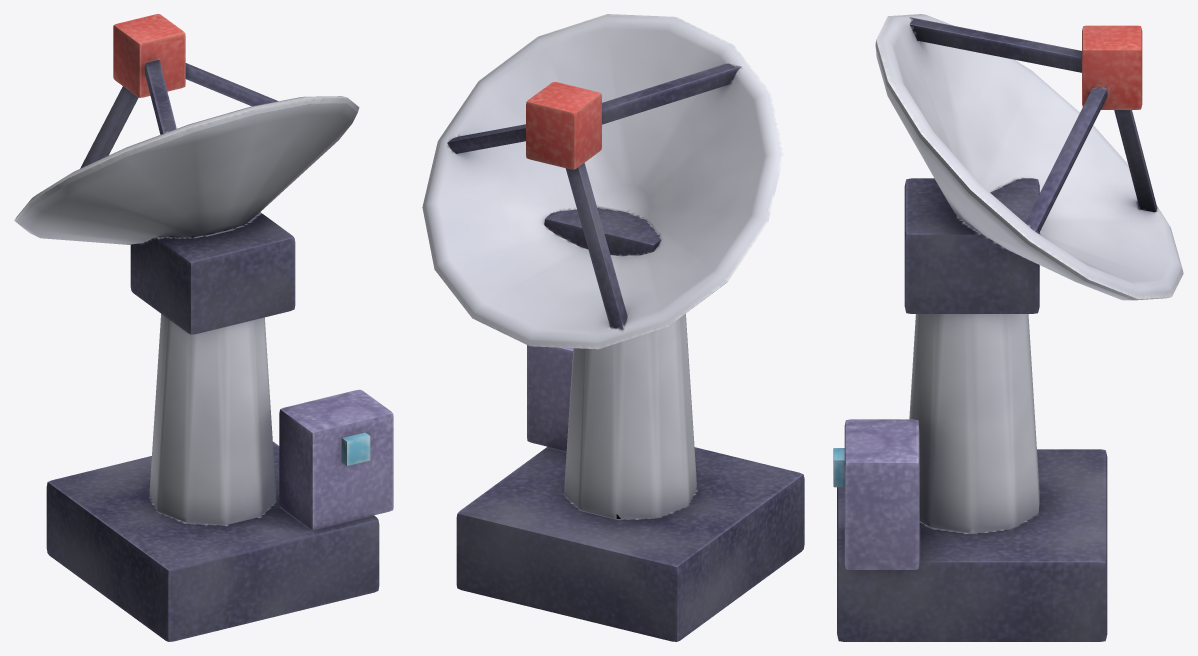
File: Cosmos_Satellite.fbx
3 views of the same model, side by side, from view 1: azimuth 30°, elevation 25°; view 2: azimuth 150°, elevation 25°; view 3: azimuth 270°, elevation 25° (orthographic). The views are drawn at different scales.
Visible parts, largest first — view 1: Cosmos_Satellite; view 2: Cosmos_Satellite; view 3: Cosmos_Satellite.
Boxes of the visible parts, <box> form: Cosmos_Satellite: <box>14,14,393,641</box>; Cosmos_Satellite: <box>422,14,804,641</box>; Cosmos_Satellite: <box>833,14,1183,641</box>.
Bounding box in the file's own units: 535 × 807 × 467.
1 material, 1 textured.
